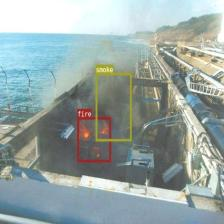fire: (77, 116, 111, 162)
smoke: (96, 72, 131, 141)
